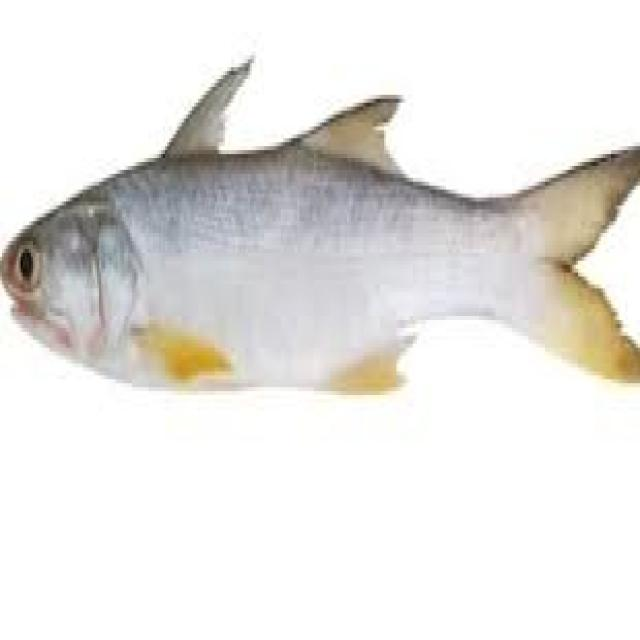Fourfinger-Threadfin: (4, 62, 640, 458)
